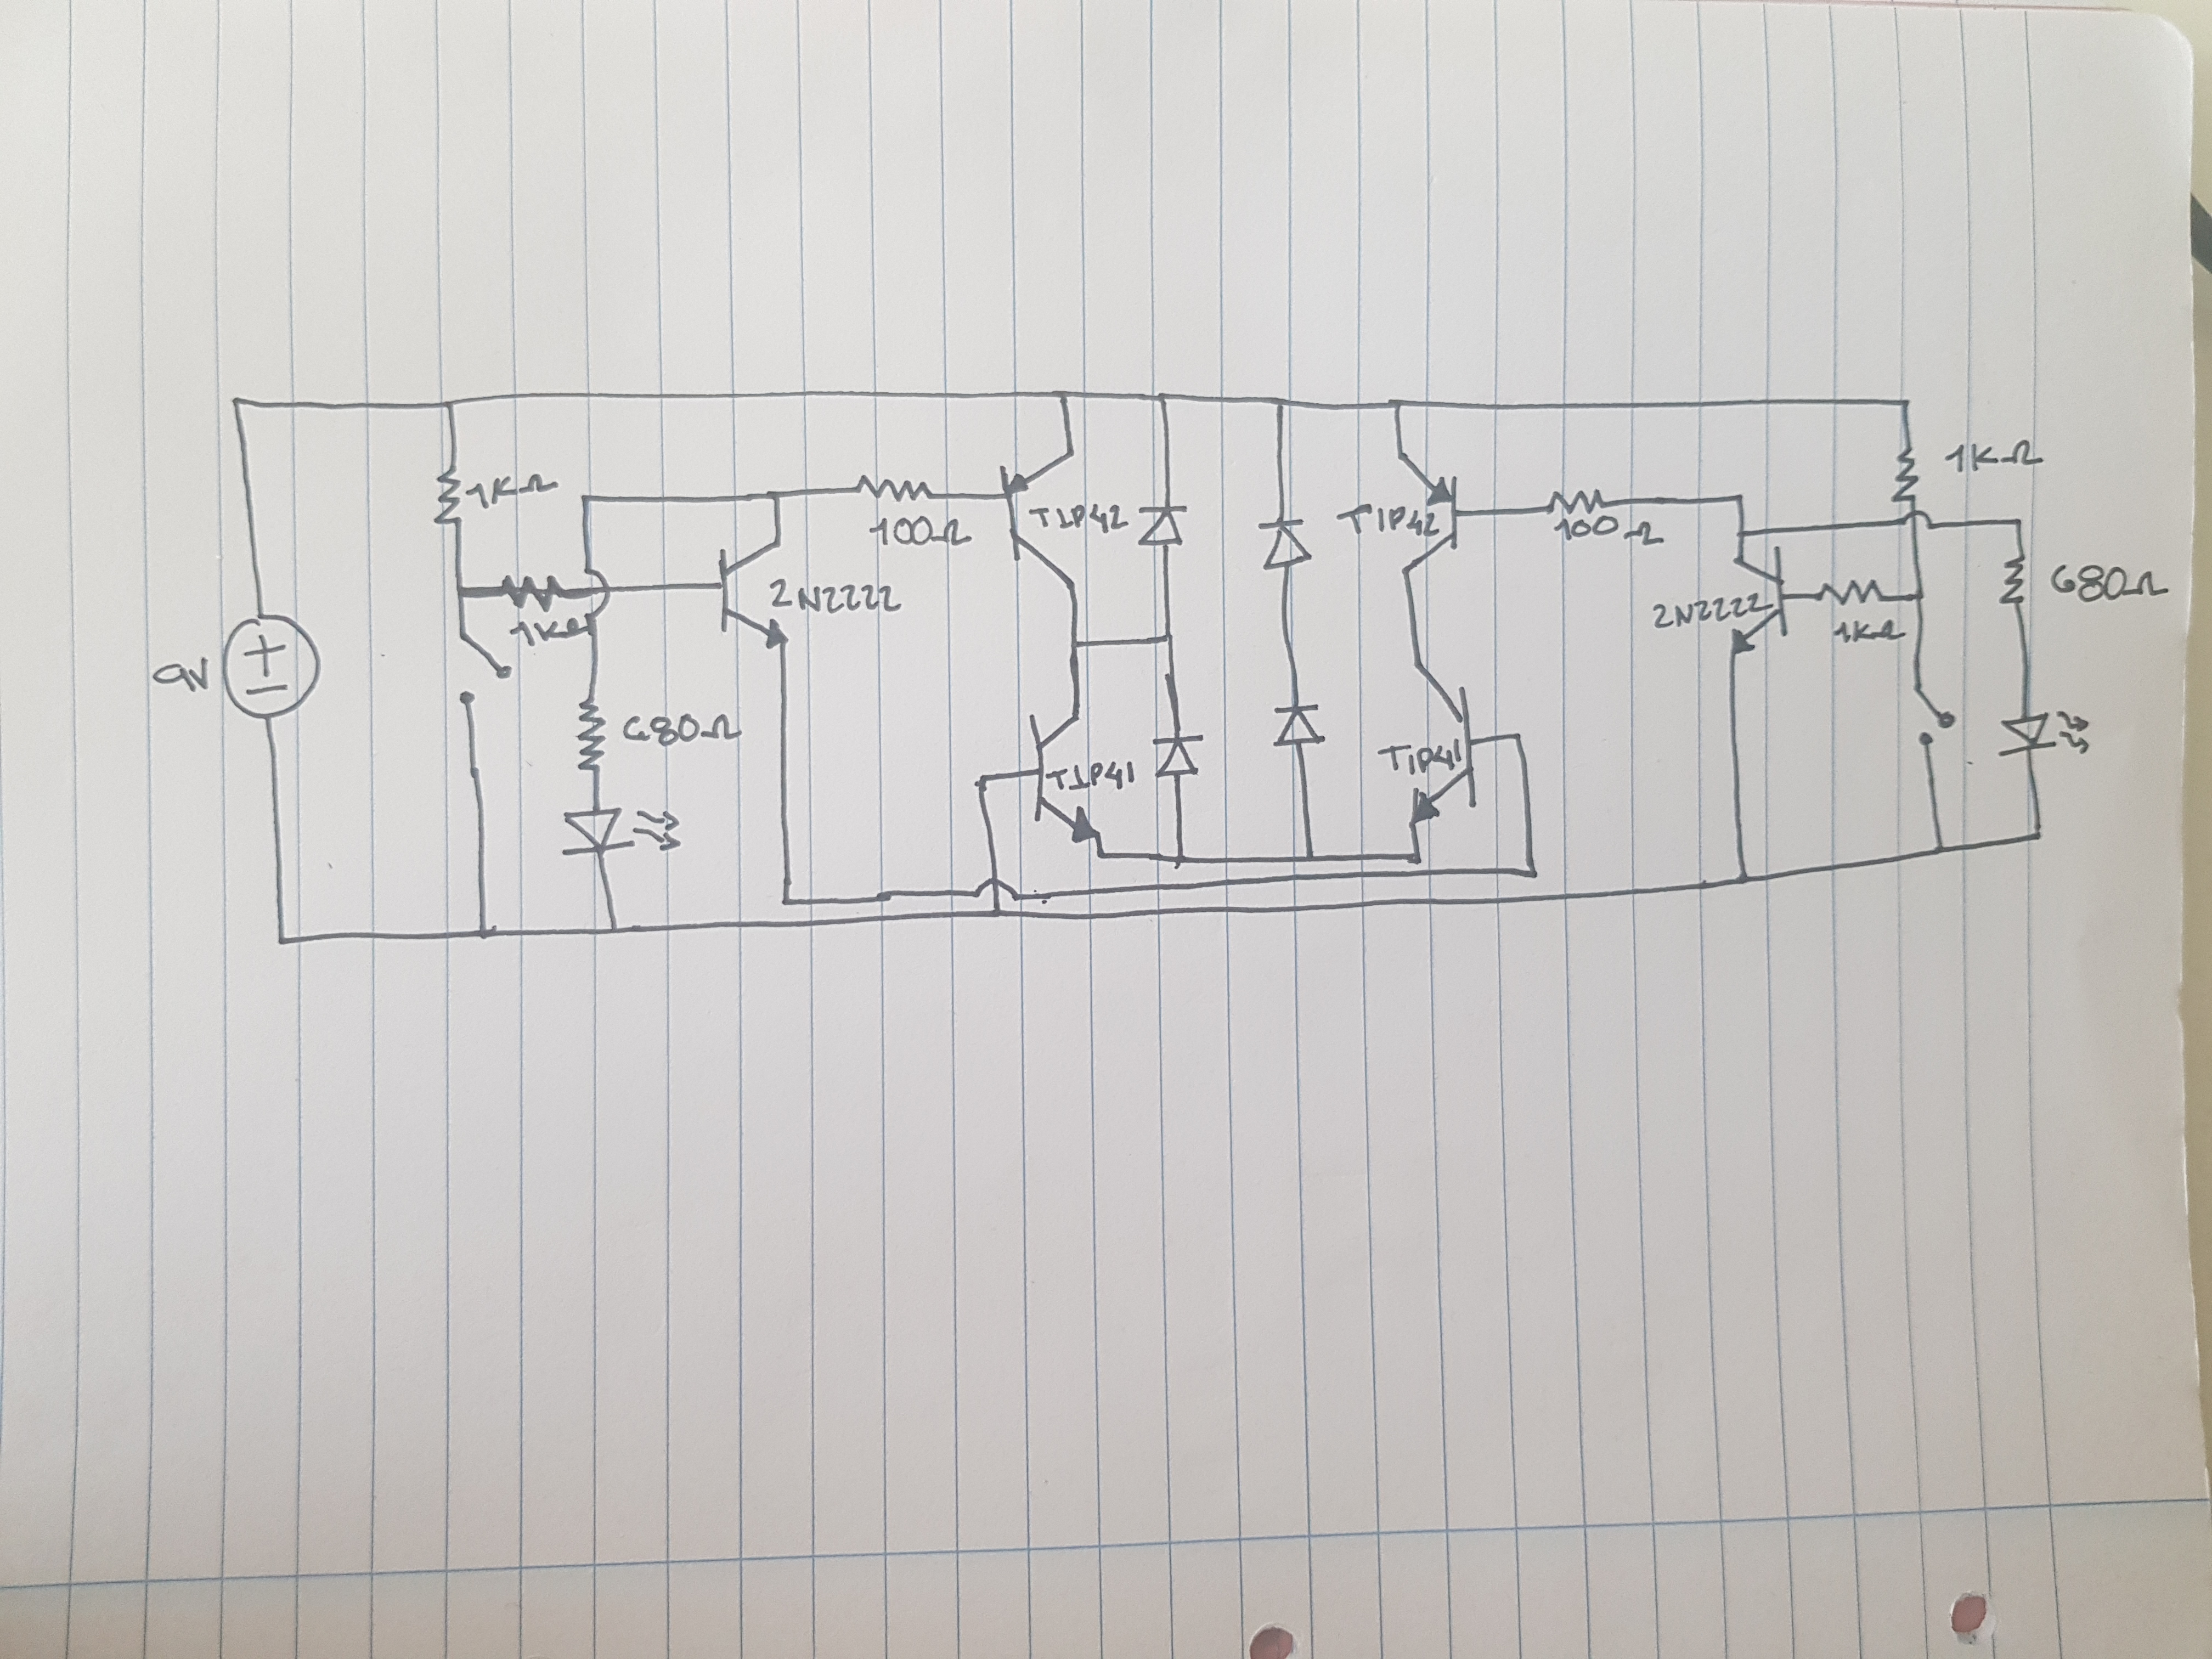crossover: (580, 563, 615, 624), (972, 877, 1017, 899), (1898, 509, 1935, 533)
diode: (1251, 516, 1315, 575), (1268, 701, 1331, 755), (1151, 734, 1214, 784), (1130, 500, 1190, 552)
diode.light_emitting: (554, 803, 683, 863), (1994, 706, 2099, 774)
junction: (1723, 863, 1761, 897), (2022, 826, 2055, 850), (603, 920, 631, 948), (1926, 838, 1958, 863), (1157, 626, 1181, 655), (1514, 859, 1541, 884), (266, 927, 291, 955), (467, 918, 493, 943), (435, 394, 469, 413), (777, 885, 799, 913), (1505, 725, 1531, 748), (228, 392, 251, 418), (1270, 392, 1294, 415), (1169, 849, 1191, 873), (1294, 849, 1322, 868), (765, 483, 787, 505), (1148, 387, 1172, 408), (1911, 584, 1932, 606), (1388, 390, 1409, 413), (1052, 385, 1075, 406), (1897, 394, 1918, 415), (573, 488, 594, 509), (1064, 636, 1087, 655), (974, 770, 993, 793), (451, 579, 470, 601), (1731, 490, 1750, 507), (2012, 509, 2027, 530), (1731, 526, 1754, 540), (989, 904, 1007, 922), (1406, 850, 1423, 863)
resistor: (496, 568, 573, 615), (575, 690, 611, 781), (853, 471, 942, 507), (1817, 573, 1888, 615), (1993, 549, 2034, 615), (428, 462, 467, 530), (1886, 444, 1923, 509), (1540, 488, 1611, 519)
switch: (449, 627, 516, 716), (1900, 674, 1959, 755)
text: (2048, 556, 2181, 603), (766, 579, 907, 620), (1646, 589, 1775, 629), (1334, 497, 1444, 540), (618, 713, 745, 749), (138, 653, 219, 704), (1043, 758, 1141, 798), (1372, 741, 1467, 781), (1554, 516, 1662, 549), (1029, 502, 1130, 537), (462, 472, 557, 509), (1949, 439, 2045, 476), (864, 518, 968, 547), (510, 619, 583, 648), (1831, 624, 1907, 648)
transistor: (1400, 659, 1484, 826), (991, 450, 1085, 589), (1026, 702, 1104, 843), (1386, 450, 1465, 577), (711, 533, 794, 650), (1724, 544, 1794, 666)
voltage.dc: (216, 608, 324, 721)
